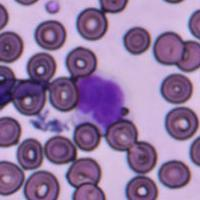M: (75, 70, 129, 129)
